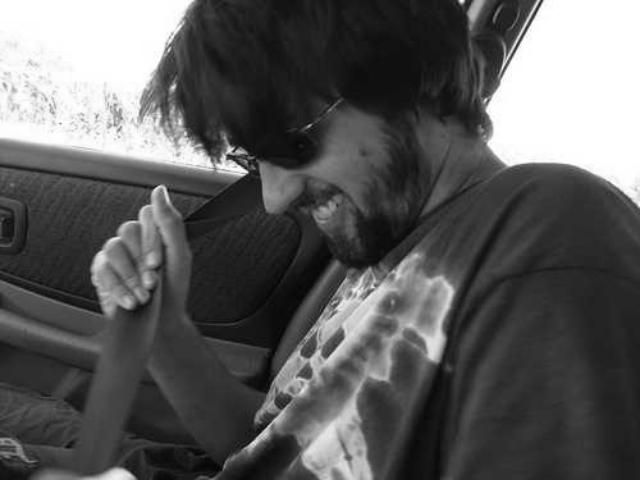Seatbelt: (65, 166, 272, 480)
